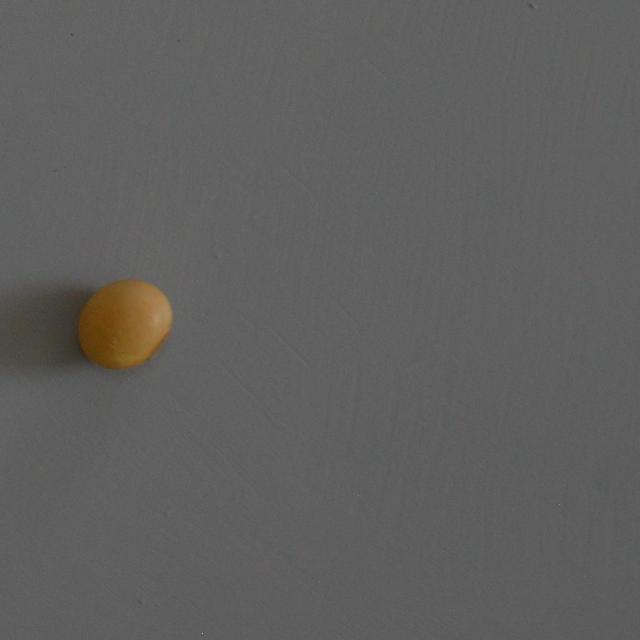cuerpos_extranos: (70, 272, 178, 378)
